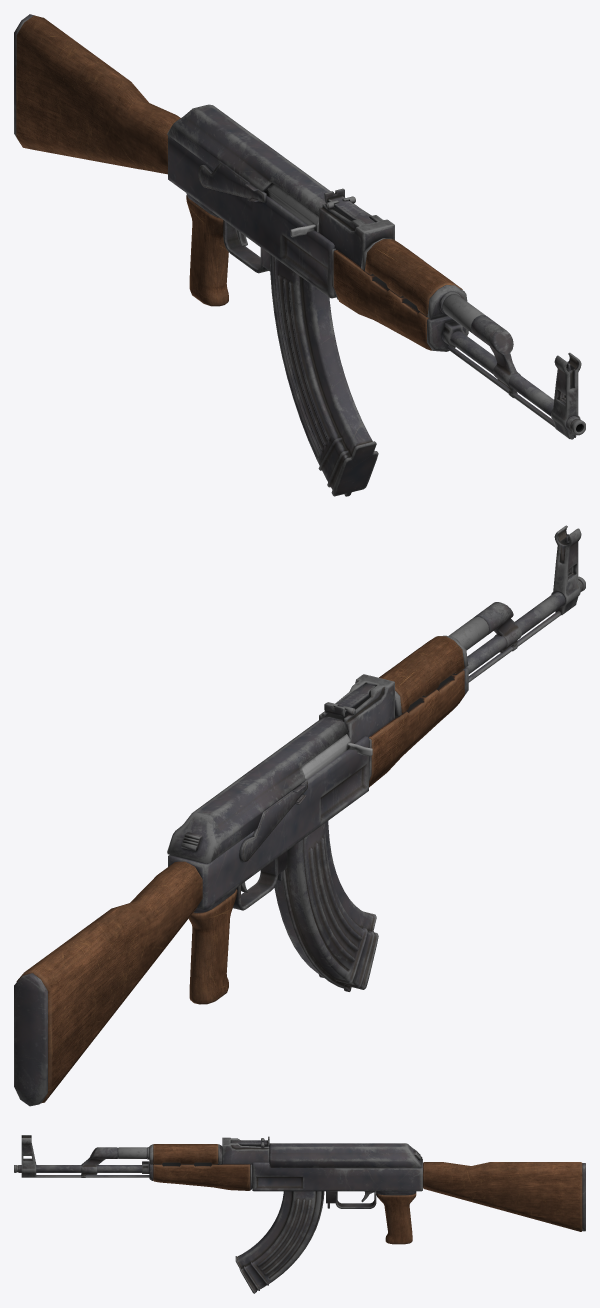
The picture shows the model from 3 angles, top to bottom: view 1: azimuth 30°, elevation 25°; view 2: azimuth 150°, elevation 25°; view 3: azimuth 270°, elevation 25°; orthographic projection. The views are drawn at different scales.
Parts seen in each view (by area): view 1: ak47; view 2: ak47; view 3: ak47.
Boxes of the visible parts, <box> form: ak47: <box>14,14,585,496</box>; ak47: <box>14,525,585,1106</box>; ak47: <box>14,1135,585,1293</box>.
Bounding box in the file's own units: 0.0426 × 0.1954 × 0.65.
1 material, 1 textured.
